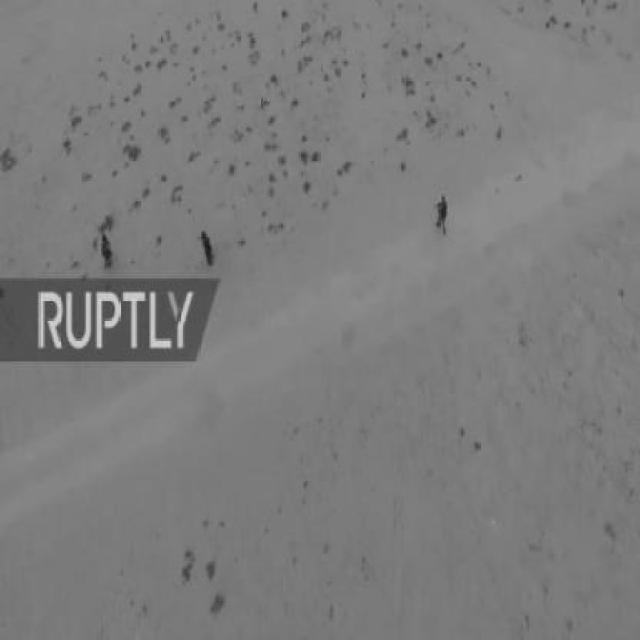Person: (195, 229, 215, 267), (434, 194, 451, 237), (97, 232, 114, 269)
